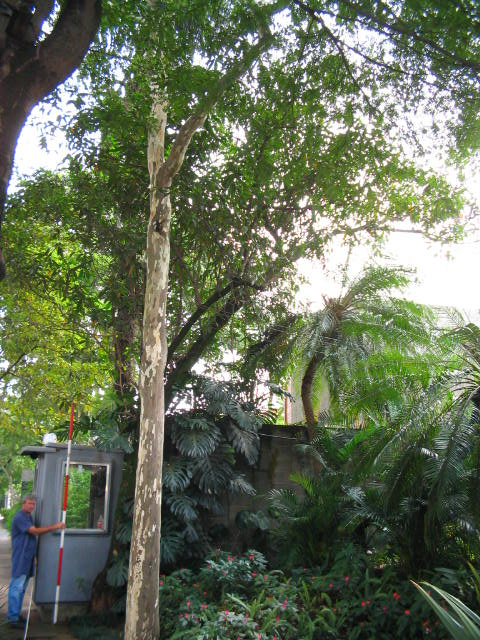stick: (48, 405, 88, 624)
